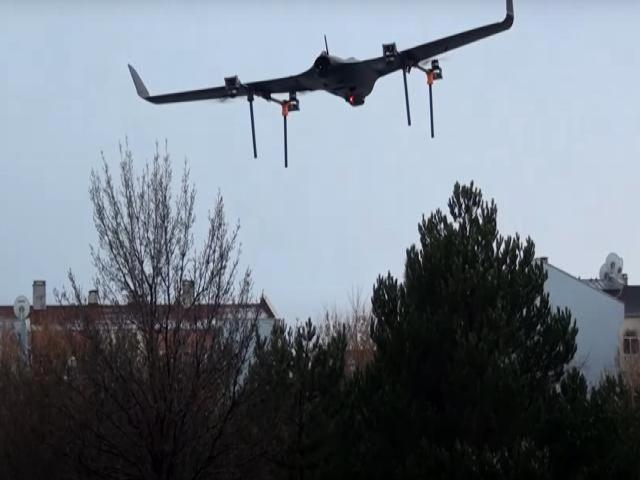iha: (126, 1, 532, 171)
